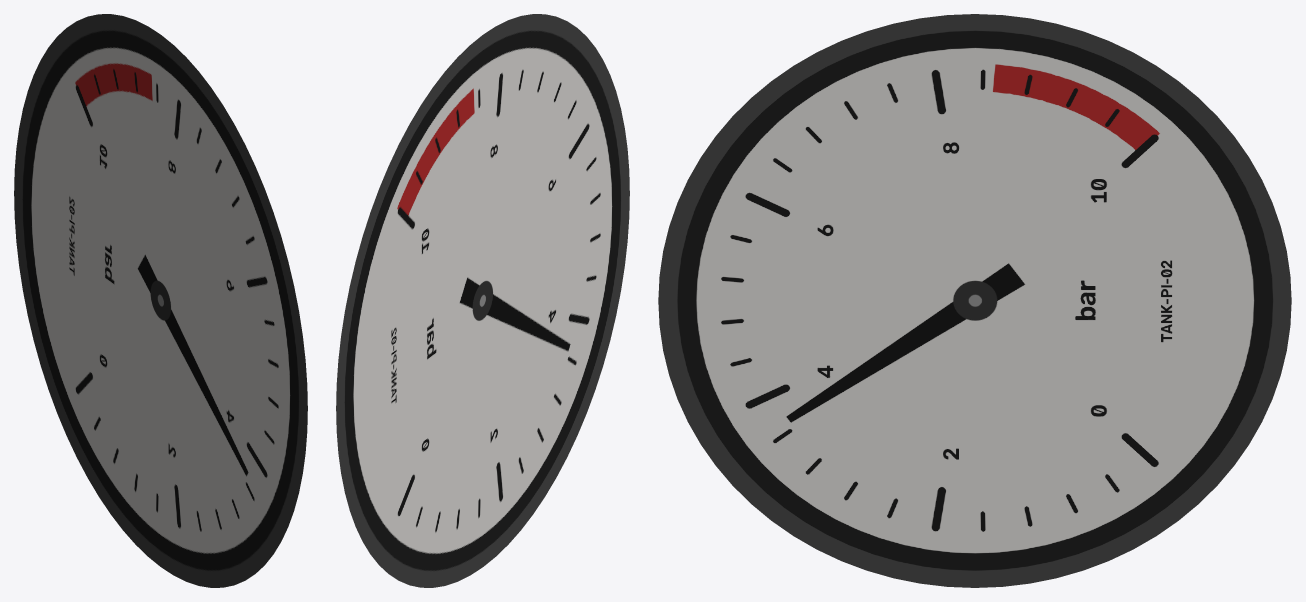
The model's file is dial.obj.
3 renders of one model, left to right at view 1: azimuth 30°, elevation 25°; view 2: azimuth 150°, elevation 25°; view 3: azimuth 270°, elevation 25°, orthographic. The views are drawn at different scales.
Parts seen in each view (by area): view 1: gauge_g05_dial; view 2: gauge_g05_dial; view 3: gauge_g05_dial.
Part boxes in pixels (box(x1,y1,x2,y2)): gauge_g05_dial: box(14, 14, 307, 587); gauge_g05_dial: box(336, 14, 629, 587); gauge_g05_dial: box(658, 14, 1291, 587).
Size of the model in its own units: 0 by 0.3 by 0.3.
Materials: 1 (1 with a texture image).
